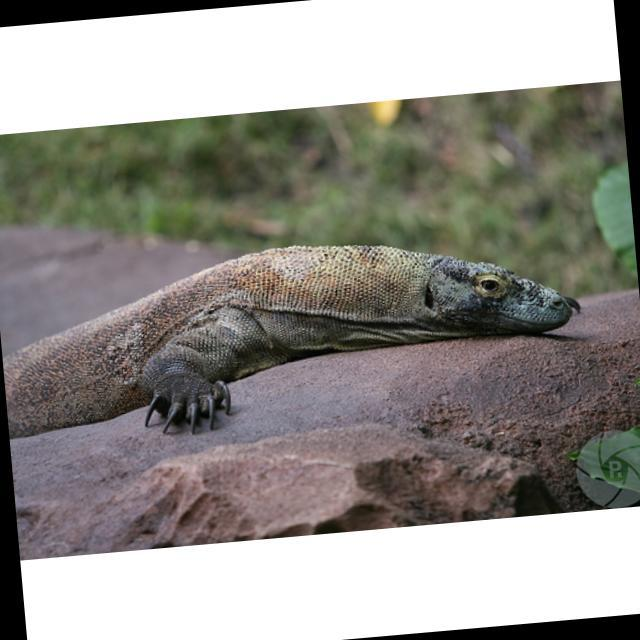KomodoDragon: (0, 218, 589, 451)
